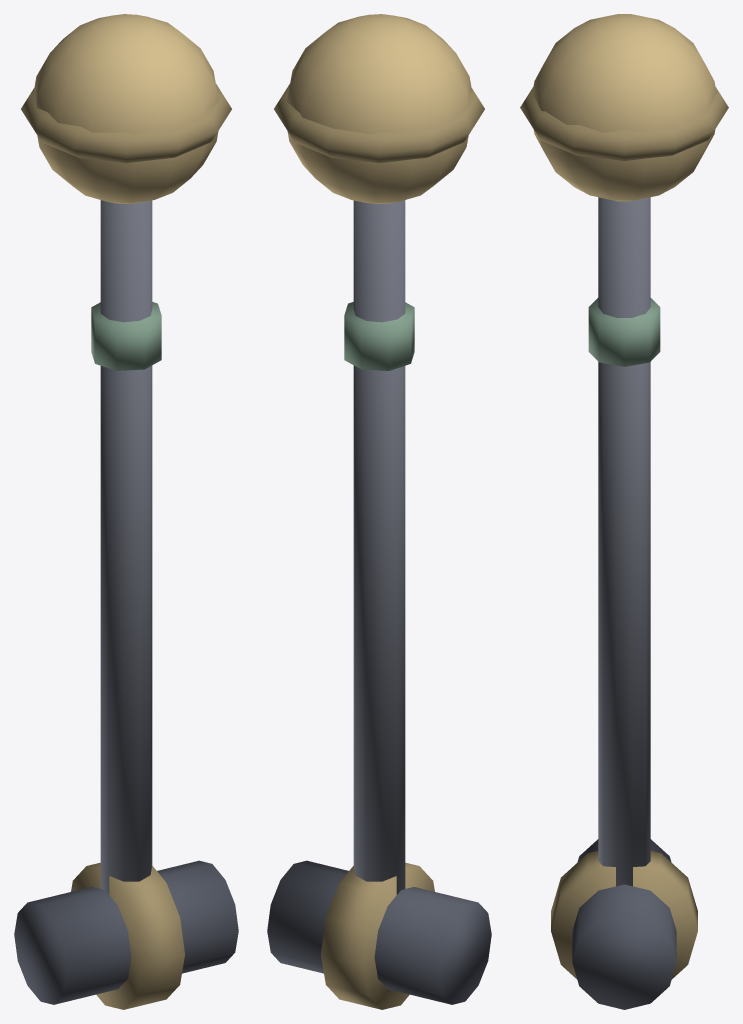
Rendered from lever.glb.
3 renders of one model, left to right at view 1: azimuth 30°, elevation 25°; view 2: azimuth 150°, elevation 25°; view 3: azimuth 270°, elevation 25°, orthographic.
Parts seen in each view (by area): view 1: Lever; view 2: Lever; view 3: Lever.
Part boxes in pixels (box(x1,y1,x2,y2)): Lever: box(14, 14, 238, 1009); Lever: box(267, 14, 491, 1009); Lever: box(520, 14, 728, 1009).
Size of the model in its own units: 0.128 by 0.653 by 0.128.
